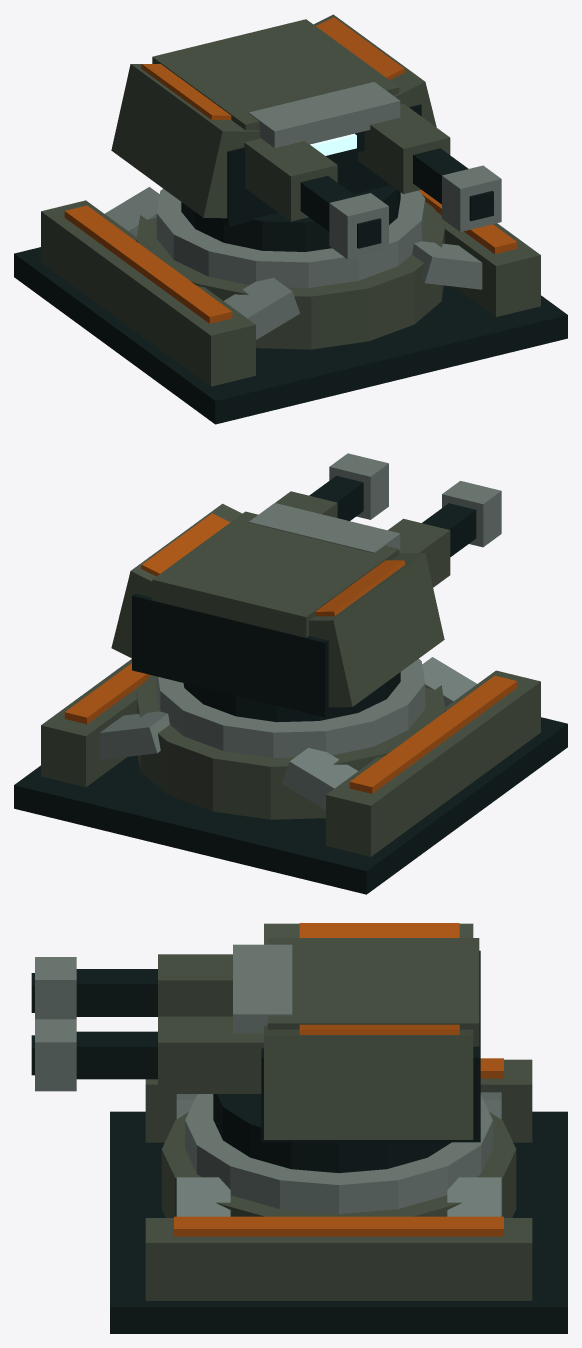
The model's file is sentry.glb.
3 renders of one model, top to bottom at view 1: azimuth 30°, elevation 25°; view 2: azimuth 150°, elevation 25°; view 3: azimuth 270°, elevation 25°, orthographic. The views are drawn at different scales.
Visible parts, largest first — view 1: sentry-static-armor, sentry-static-frame, sentry-turret-static-armor, sentry-static-trim, sentry-carriage-static-armor, sentry-brow, sentry-static-owner, sentry-carriage-static-trim, sentry-carriage-static-frame, sentry-turret-static-frame, sentry-turret-static-owner, sentry-sensor; view 2: sentry-static-armor, sentry-turret-static-armor, sentry-static-frame, sentry-static-trim, sentry-turret-static-frame, sentry-static-owner, sentry-carriage-static-trim, sentry-brow, sentry-turret-static-owner, sentry-carriage-static-armor, sentry-carriage-static-frame; view 3: sentry-turret-static-armor, sentry-static-frame, sentry-static-armor, sentry-static-trim, sentry-carriage-static-armor, sentry-carriage-static-frame, sentry-static-owner, sentry-carriage-static-trim, sentry-brow, sentry-turret-static-owner, sentry-turret-static-frame.
Boxes of the visible parts, x1=… form: sentry-static-armor: x1=41, y1=200, x2=540, y2=386; sentry-static-frame: x1=14, y1=185, x2=567, y2=424; sentry-turret-static-armor: x1=111, y1=14, x2=436, y2=218; sentry-static-trim: x1=104, y1=187, x2=482, y2=339; sentry-carriage-static-armor: x1=244, y1=103, x2=450, y2=221; sentry-brow: x1=248, y1=82, x2=400, y2=147; sentry-static-owner: x1=64, y1=190, x2=517, y2=323; sentry-carriage-static-trim: x1=329, y1=165, x2=501, y2=259; sentry-carriage-static-frame: x1=300, y1=148, x2=493, y2=248; sentry-turret-static-frame: x1=217, y1=104, x2=421, y2=226; sentry-turret-static-owner: x1=141, y1=17, x2=405, y2=119; sentry-sensor: x1=310, y1=133, x2=356, y2=155; sentry-static-armor: x1=41, y1=659, x2=540, y2=856; sentry-turret-static-armor: x1=111, y1=503, x2=444, y2=707; sentry-static-frame: x1=14, y1=672, x2=567, y2=894; sentry-static-trim: x1=99, y1=657, x2=476, y2=809; sentry-turret-static-frame: x1=132, y1=593, x2=338, y2=717; sentry-static-owner: x1=64, y1=663, x2=517, y2=793; sentry-carriage-static-trim: x1=329, y1=453, x2=501, y2=547; sentry-brow: x1=248, y1=503, x2=400, y2=553; sentry-turret-static-owner: x1=141, y1=513, x2=405, y2=616; sentry-carriage-static-armor: x1=275, y1=491, x2=450, y2=587; sentry-carriage-static-frame: x1=309, y1=475, x2=476, y2=556; sentry-turret-static-armor: x1=264, y1=923, x2=479, y2=1139; sentry-static-frame: x1=110, y1=1094, x2=567, y2=1333; sentry-static-armor: x1=145, y1=1059, x2=532, y2=1300; sentry-static-trim: x1=176, y1=1092, x2=501, y2=1216; sentry-carriage-static-armor: x1=158, y1=954, x2=263, y2=1093; sentry-carriage-static-frame: x1=31, y1=969, x2=157, y2=1079; sentry-static-owner: x1=174, y1=1058, x2=503, y2=1236; sentry-carriage-static-trim: x1=35, y1=957, x2=76, y2=1091; sentry-brow: x1=233, y1=944, x2=292, y2=1033; sentry-turret-static-owner: x1=299, y1=923, x2=459, y2=1034; sentry-turret-static-frame: x1=261, y1=950, x2=480, y2=1142.
Size of the model in its own units: 1.88 by 1.16 by 2.25.
